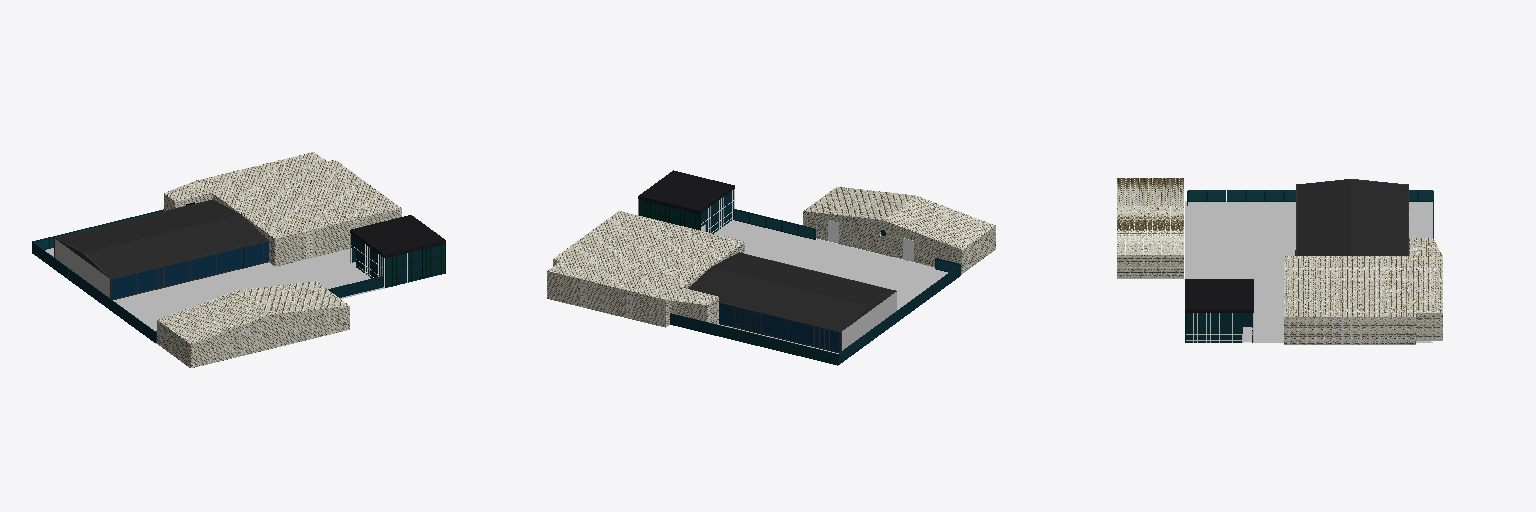
The picture shows the model from 3 angles: view 1: azimuth 30°, elevation 25°; view 2: azimuth 150°, elevation 25°; view 3: azimuth 270°, elevation 25°; orthographic projection.
Visible parts, largest first — view 1: Шелк_вверанда.002; view 2: Шелк_вверанда.002; view 3: Шелк_вверанда.002.
Boxes of the visible parts, x1,y1,x2,y2 form: Шелк_вверанда.002: [32, 152, 445, 367]; Шелк_вверанда.002: [547, 170, 995, 365]; Шелк_вверанда.002: [1117, 178, 1442, 344].
Bounding box in the file's own units: 35.93 × 4.04 × 34.36.
17 materials, 1 textured.